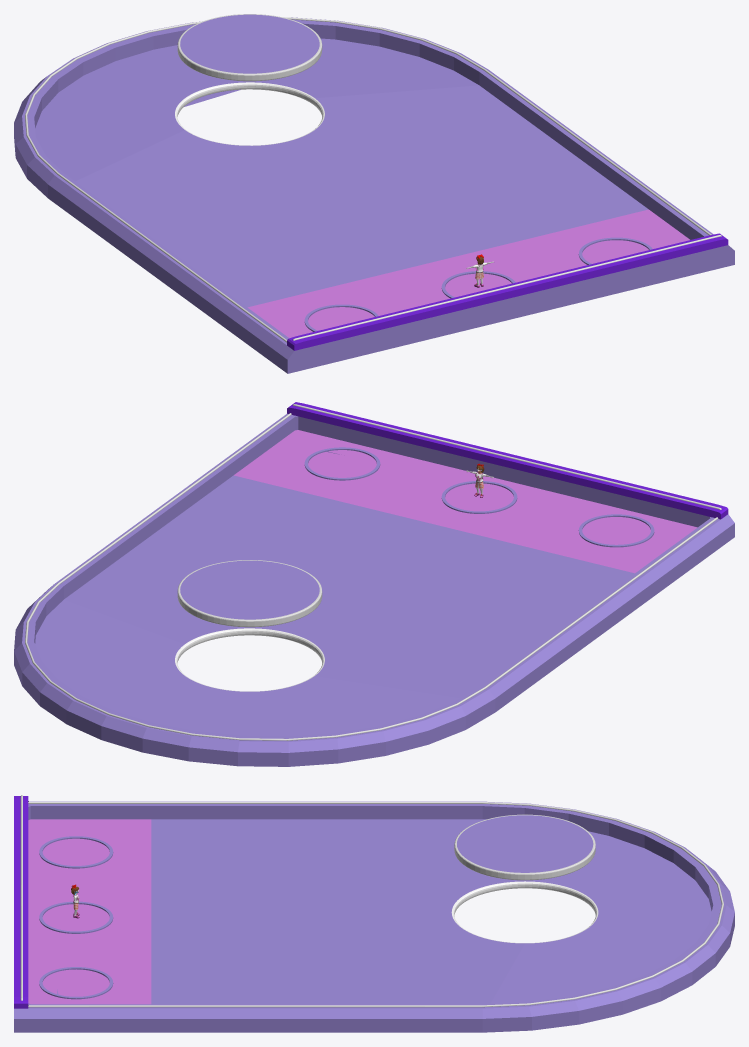
The model's file is Platform_Deneme2 2.fbx.
3 views of the same model, one above another, from view 1: azimuth 30°, elevation 25°; view 2: azimuth 150°, elevation 25°; view 3: azimuth 270°, elevation 25° (orthographic). The views are drawn at different scales.
Parts seen in each view (by area): view 1: Base_Mesh, Base_Mesh_Hole, Circle; view 2: Base_Mesh, Base_Mesh_Hole, Circle; view 3: Base_Mesh, Base_Mesh_Hole, Circle.
Part boxes in pixels (bbox=[...]): Base_Mesh: bbox=[14, 17, 734, 373]; Base_Mesh_Hole: bbox=[177, 14, 322, 81]; Circle: bbox=[25, 17, 721, 342]; Base_Mesh: bbox=[14, 402, 734, 766]; Base_Mesh_Hole: bbox=[177, 560, 322, 627]; Circle: bbox=[25, 404, 721, 740]; Base_Mesh: bbox=[14, 796, 734, 1032]; Base_Mesh_Hole: bbox=[454, 814, 595, 880]; Circle: bbox=[20, 795, 723, 1007].
Bounding box in the file's own units: 2498 × 448 × 3568.
